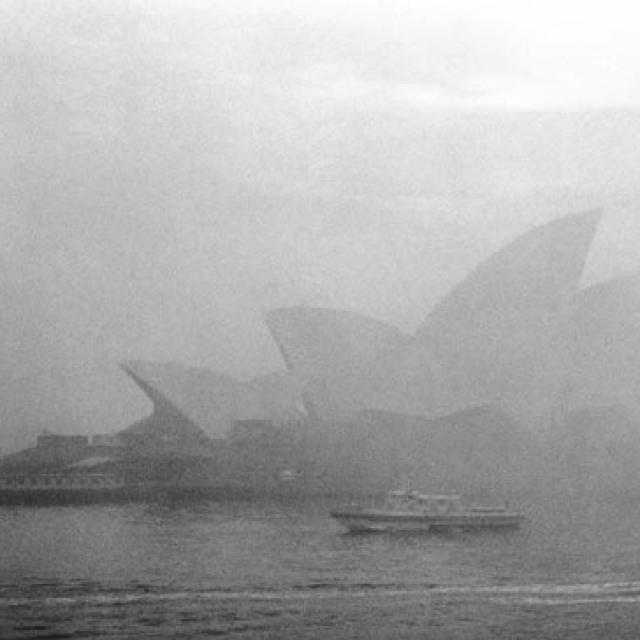passenger ship: (342, 479, 526, 535)
